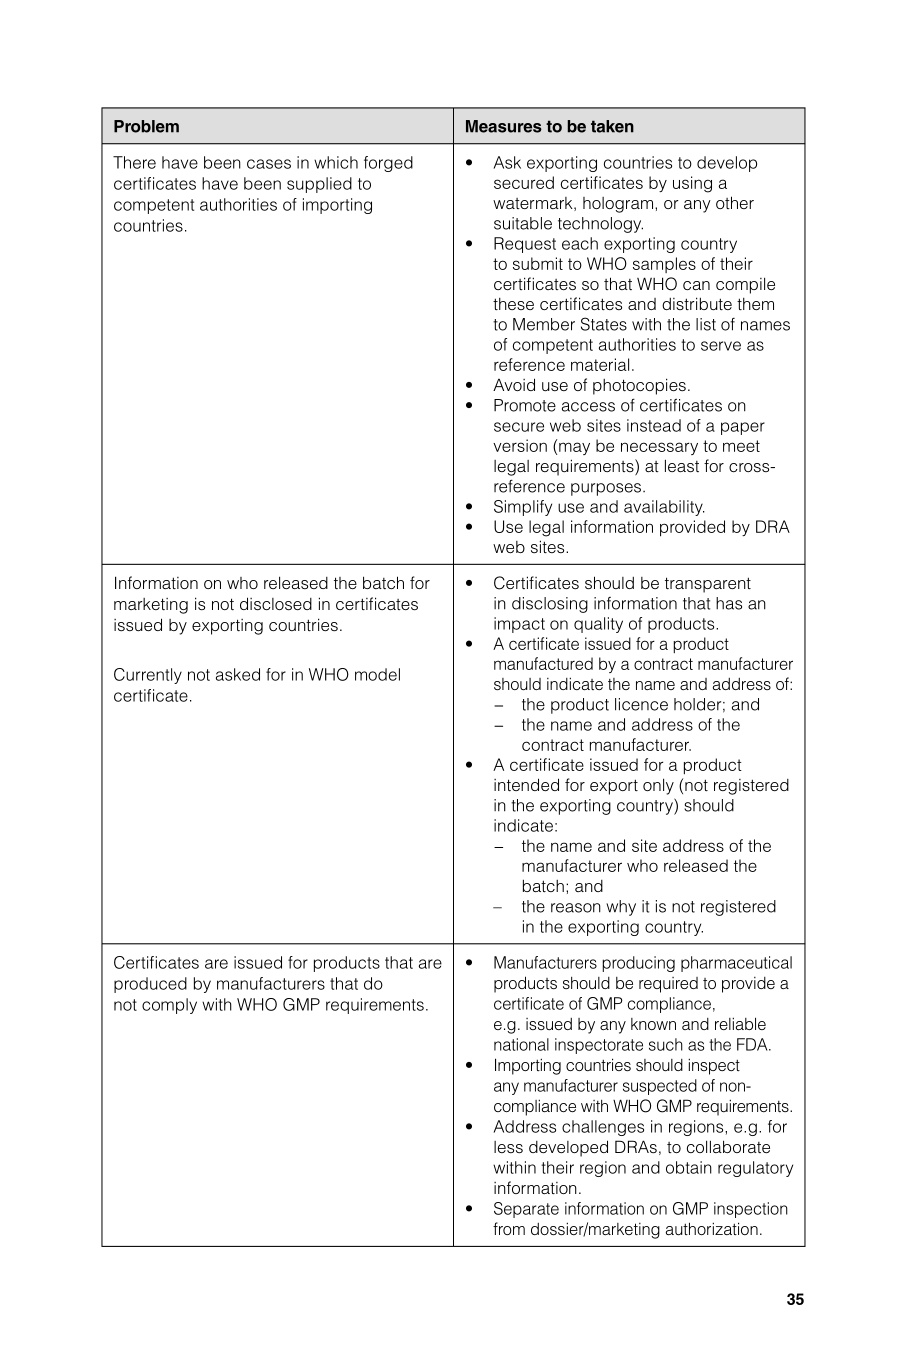full_lined: (100, 107, 806, 1248)
